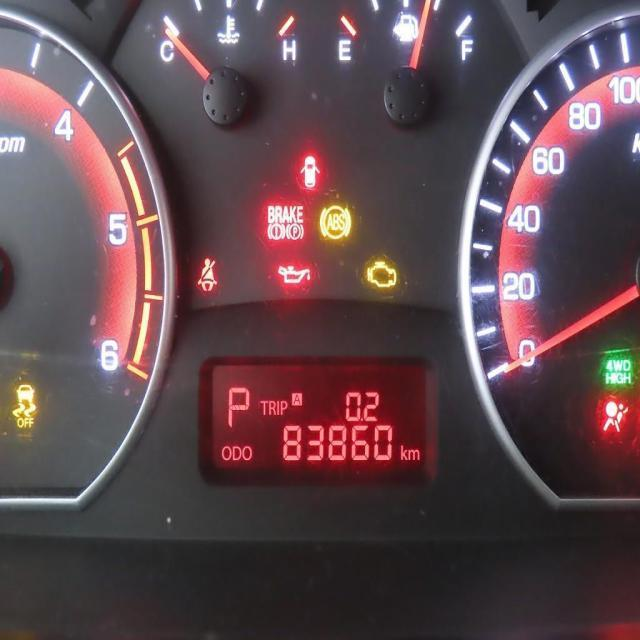Doors: (298, 154, 320, 188)
